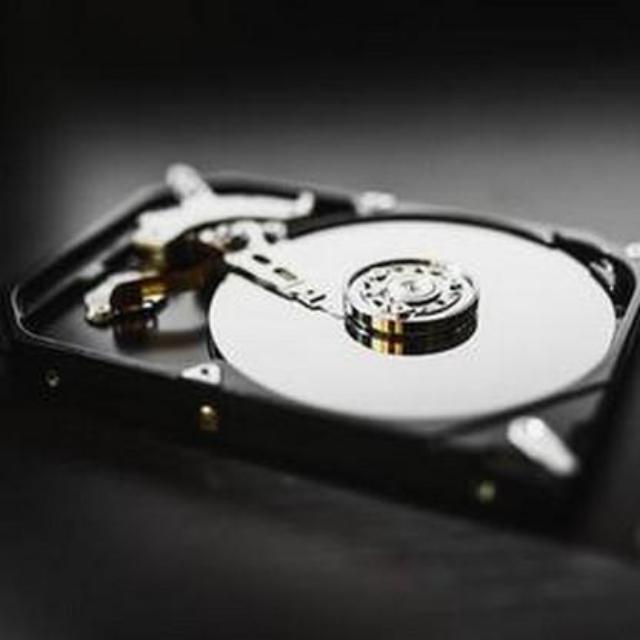DISK: (14, 164, 640, 588)
